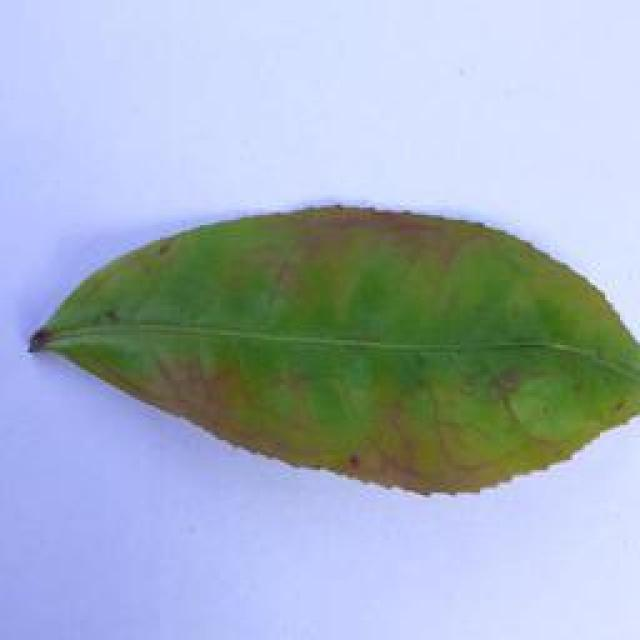Red Leaf Spot: (27, 189, 640, 506)
